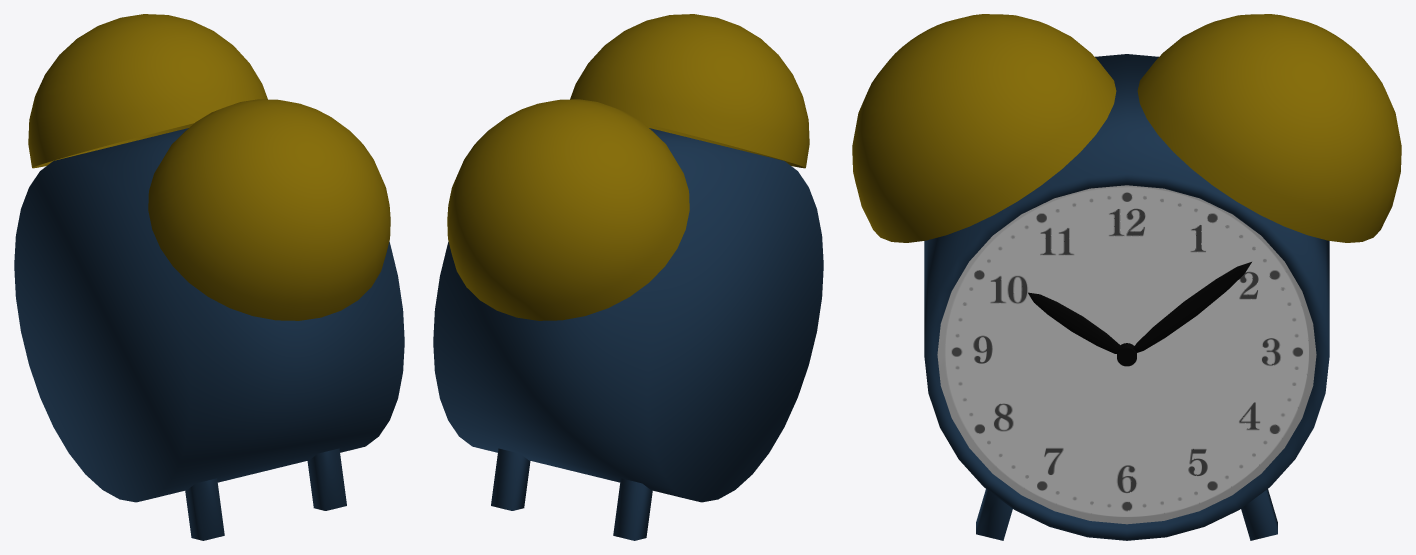
The picture shows the model from 3 angles, left to right: view 1: azimuth 30°, elevation 25°; view 2: azimuth 150°, elevation 25°; view 3: azimuth 270°, elevation 25°; orthographic projection. The views are drawn at different scales.
Visible parts, largest first — view 1: 円柱, 球, 立方体; view 2: 円柱, 球, 立方体; view 3: 円柱.001, 球, 円柱, 立方体, ICO球, ICO球.001.
Boxes of the visible parts, left/top/right/bottom form: 円柱: left=14, top=128, right=404, bottom=502; 球: left=28, top=14, right=390, bottom=320; 立方体: left=185, top=448, right=346, bottom=540; 円柱: left=433, top=128, right=823, bottom=502; 球: left=447, top=14, right=809, bottom=320; 立方体: left=491, top=448, right=652, bottom=540; 円柱.001: left=937, top=185, right=1316, bottom=524; 球: left=852, top=14, right=1401, bottom=242; 円柱: left=924, top=54, right=1329, bottom=540; 立方体: left=976, top=489, right=1277, bottom=540; ICO球: left=1133, top=262, right=1251, bottom=352; ICO球.001: left=1028, top=292, right=1121, bottom=353.
Bounding box in the file's own units: 0.14 × 0.2581 × 0.2714.
7 materials, 1 textured.
